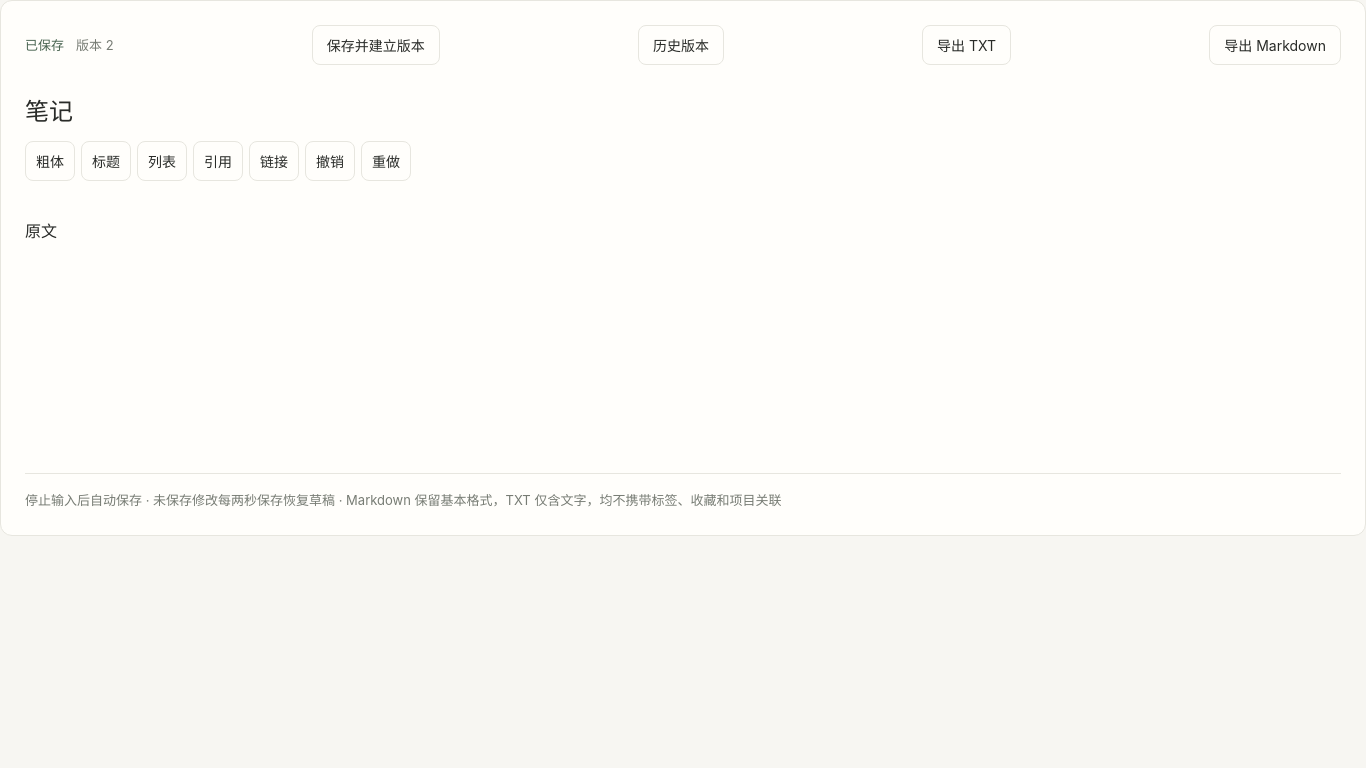
Scenario: 恢复旧版本更新真实编辑器正文且不会把加载内容误认为新输入
Click the button "历史版本" at (681, 45), box top-left (638, 25), bottom-right (724, 65)
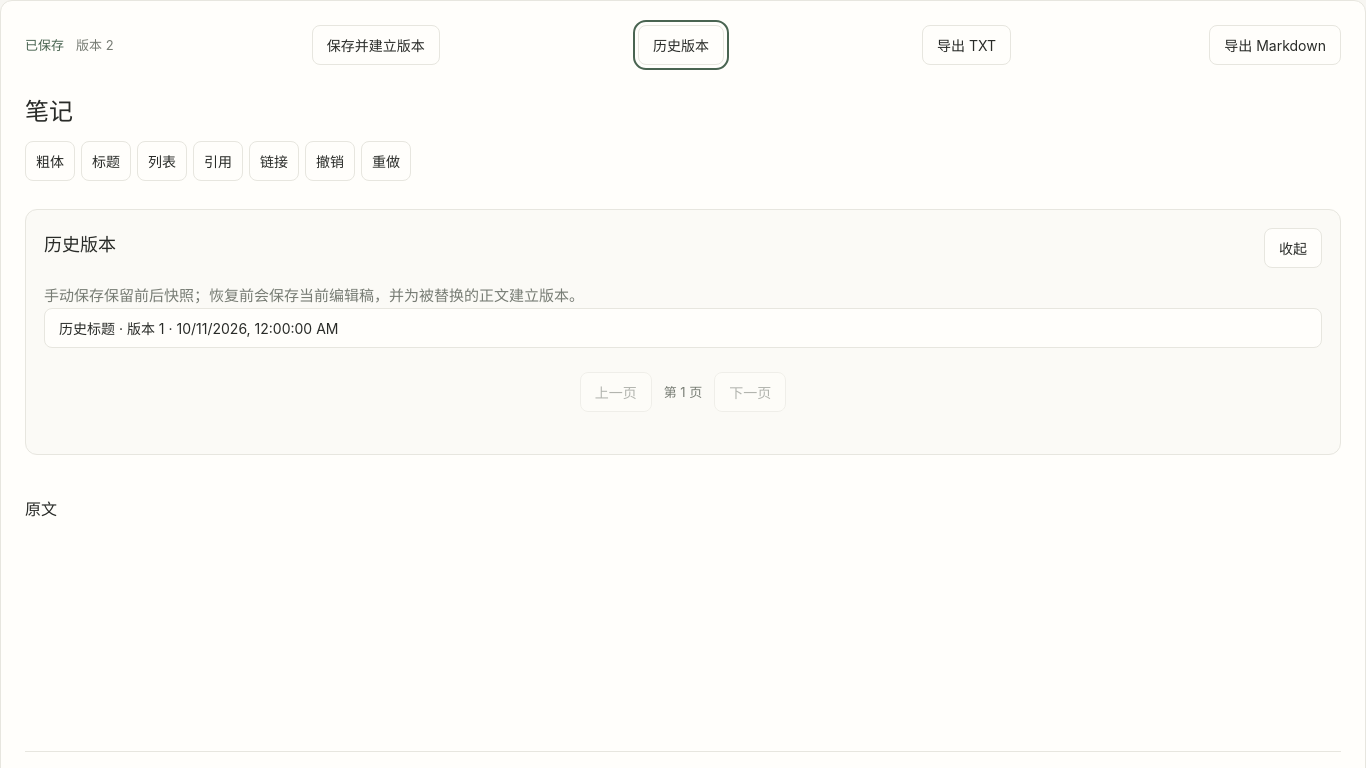
Click the button "历史标题 · 版本 1 · 10/11/2026, 12:00:00 AM" at (87, 328), box top-left (44, 308), bottom-right (1322, 348)
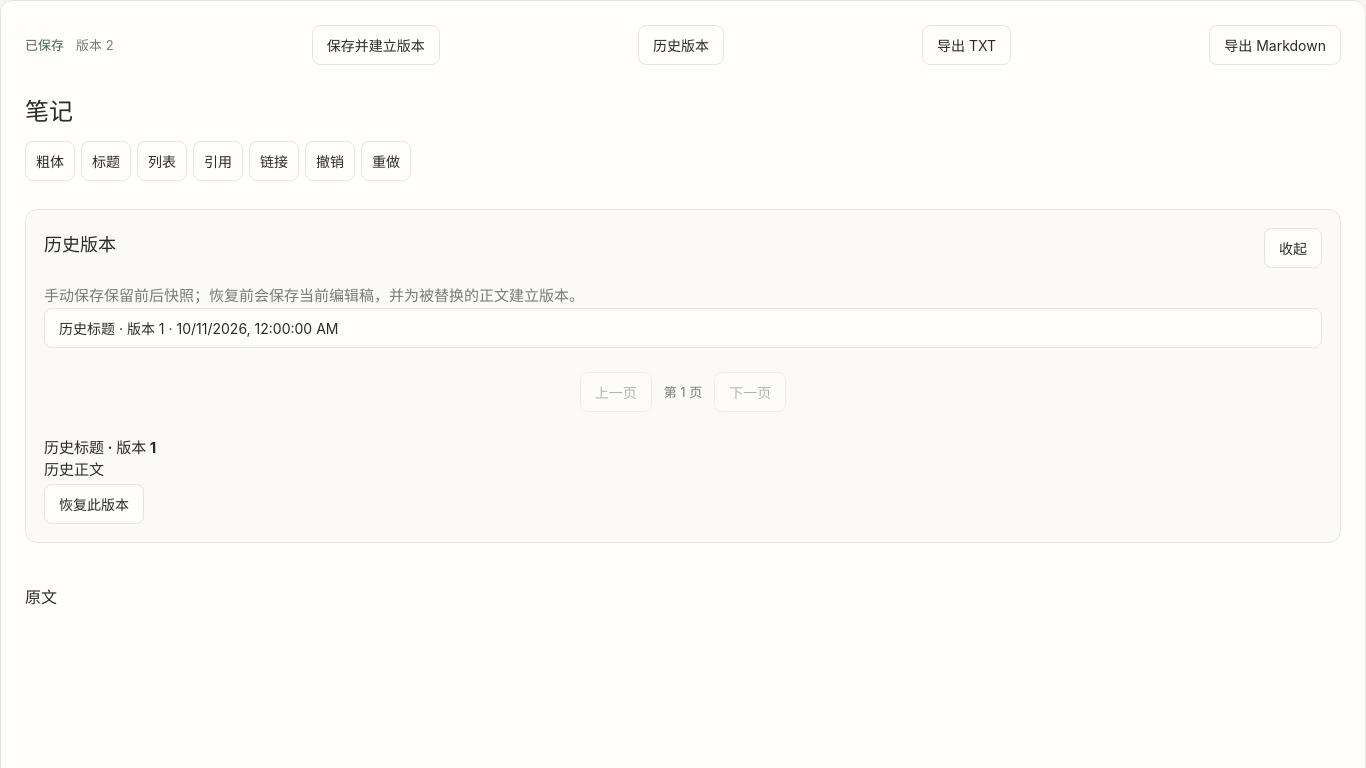
Click the button "恢复此版本" at (94, 504), box top-left (44, 484), bottom-right (144, 524)
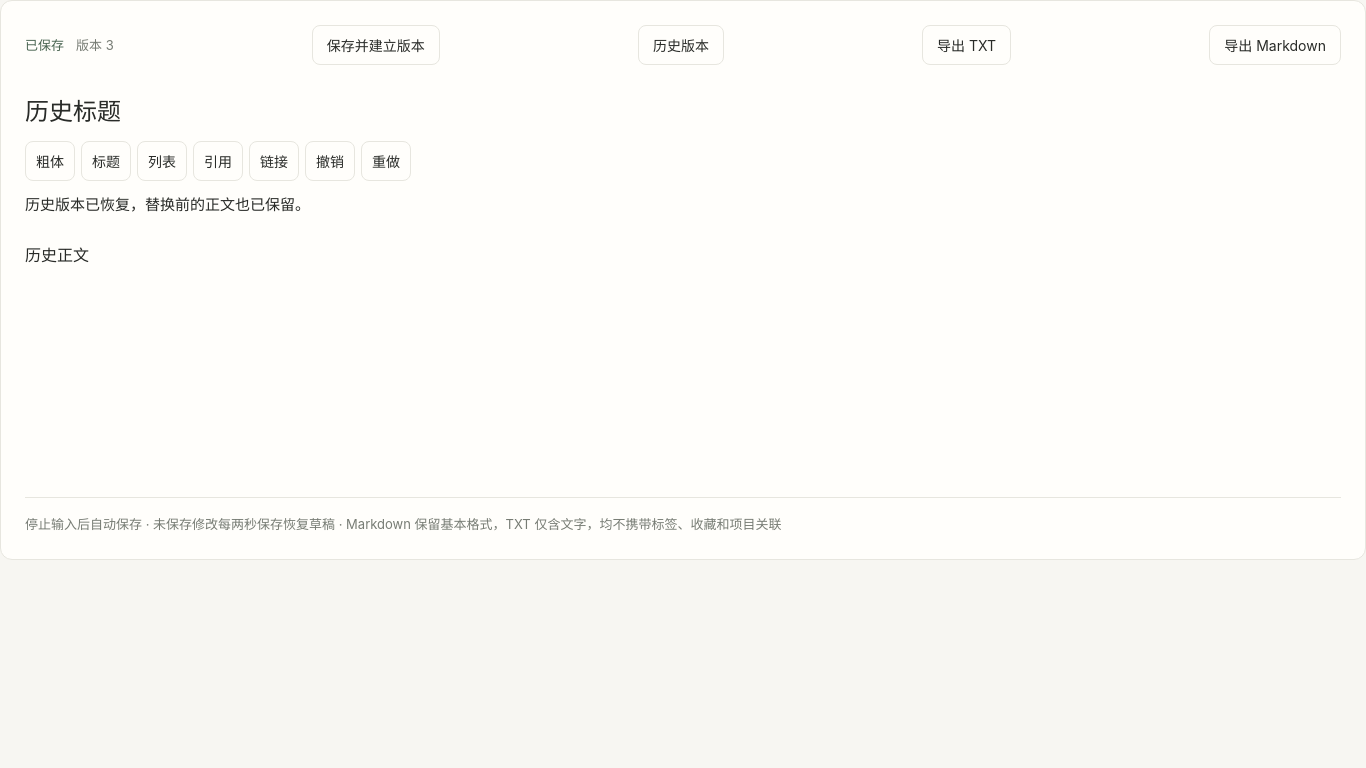
expect the field named "笔记正文" reads "历史正文": met, box top-left (25, 245), bottom-right (89, 265)
expect the field named "笔记标题" holds "历史标题": met, box top-left (25, 89), bottom-right (1341, 129)
